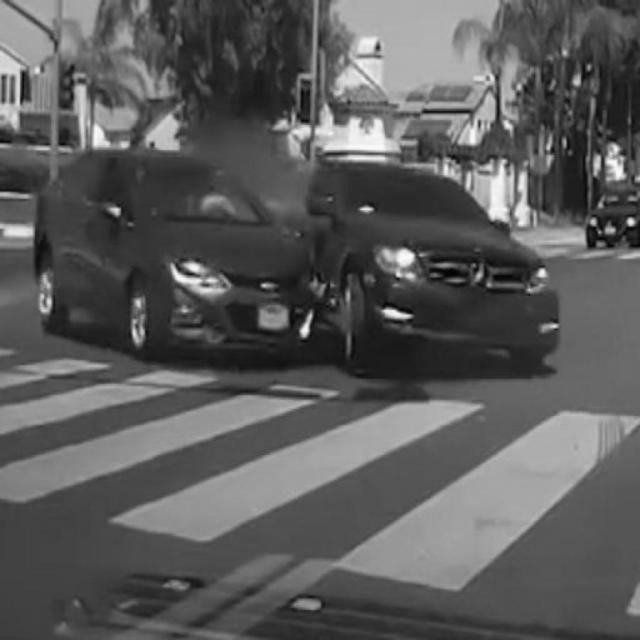accident: (37, 149, 561, 380)
vehicle: (585, 184, 640, 254)
